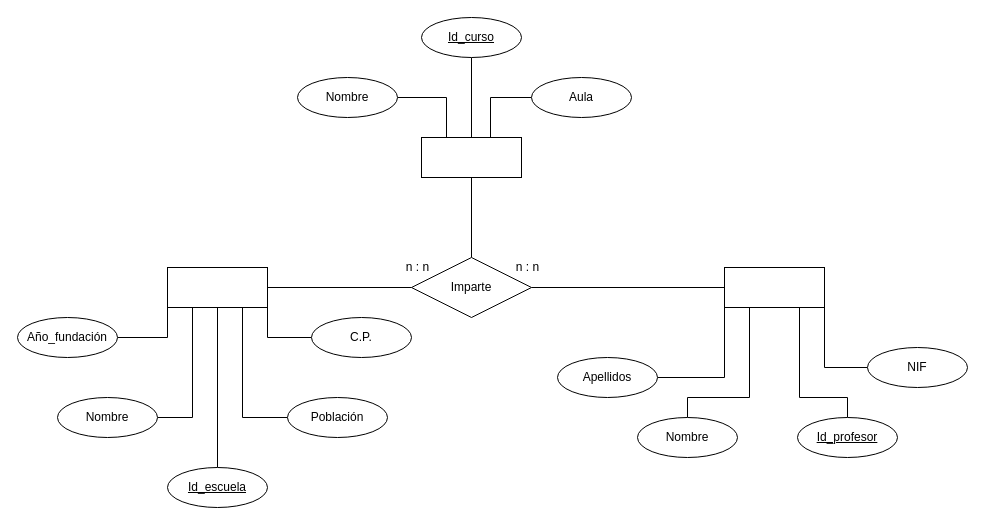
The diagram is 985 pixels wide and 525 high, and some of its shapes have lost their labels. The centre of each missing label's shape, as x and y in pixels:
Curso: point (471, 157)
Escuela: point (217, 287)
Profesor: point (774, 287)
